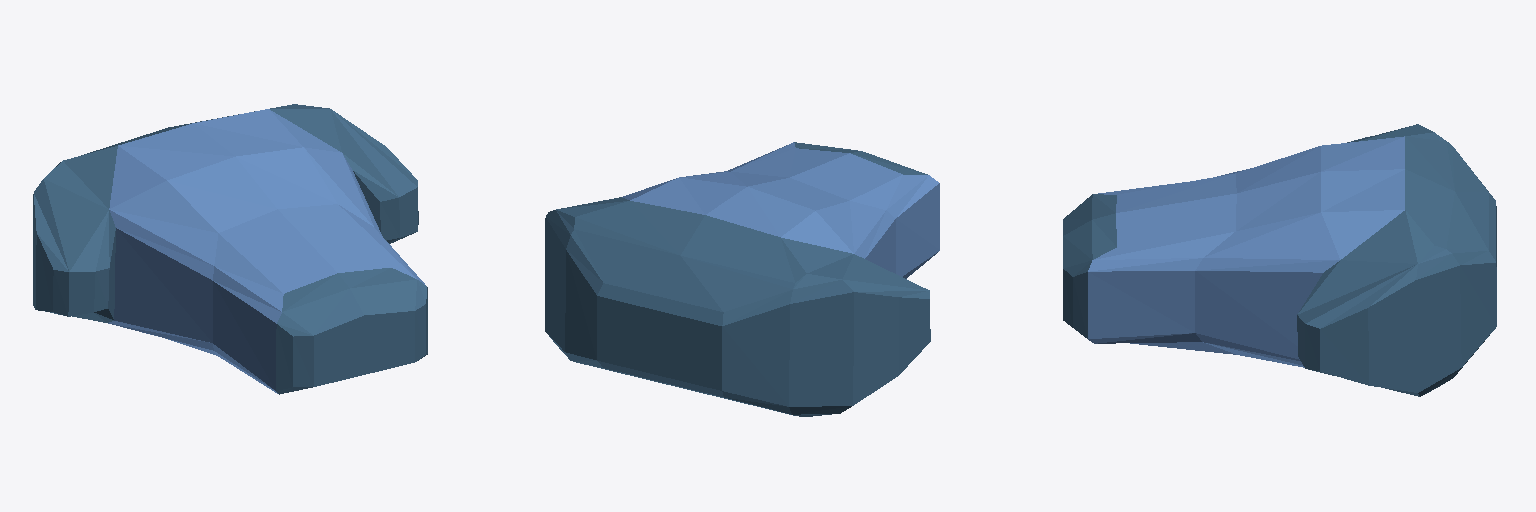
The model's file is SilverArmour.obj.
3 views of the same model, side by side, from view 1: azimuth 30°, elevation 25°; view 2: azimuth 150°, elevation 25°; view 3: azimuth 270°, elevation 25° (orthographic).
Visible parts, largest first — view 1: SilverArmour; view 2: SilverArmour; view 3: SilverArmour.
Part boxes in pixels (bbox=[...]): SilverArmour: bbox=[33, 104, 427, 394]; SilverArmour: bbox=[545, 142, 939, 416]; SilverArmour: bbox=[1063, 124, 1496, 396].
Size of the model in its own units: 1.01 by 0.4581 by 1.04.